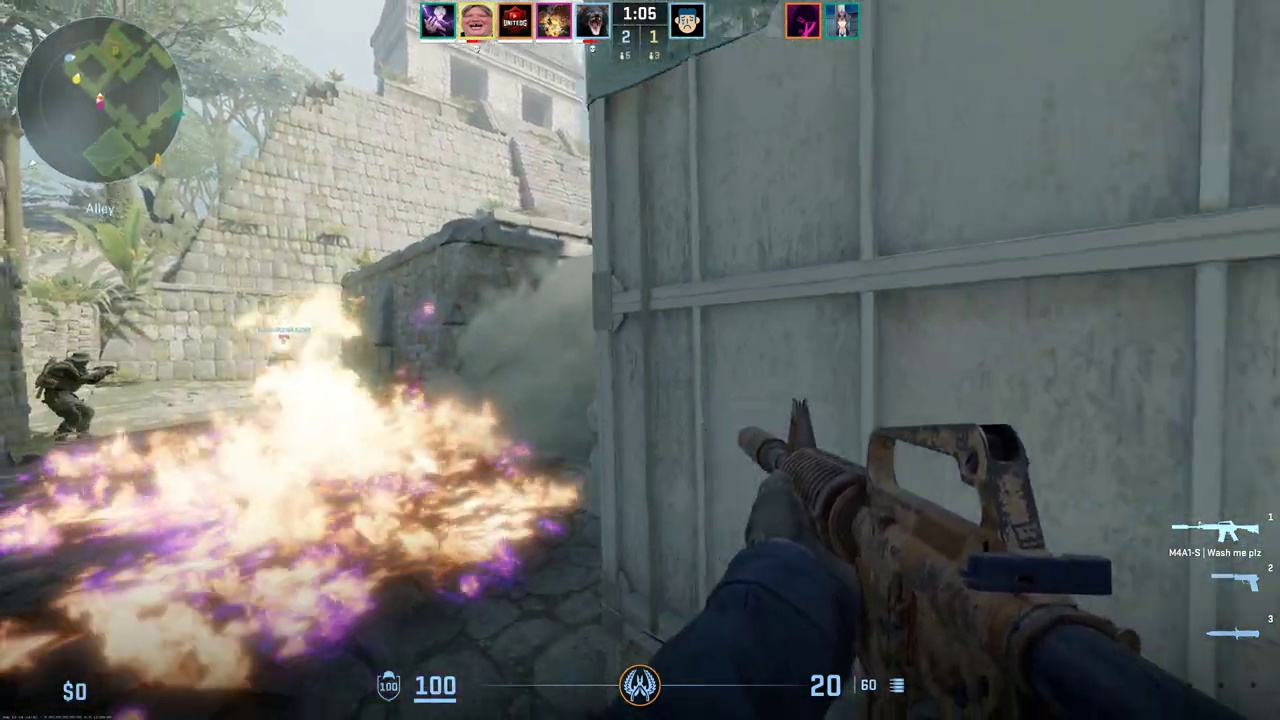CT: (35, 351, 104, 441)
